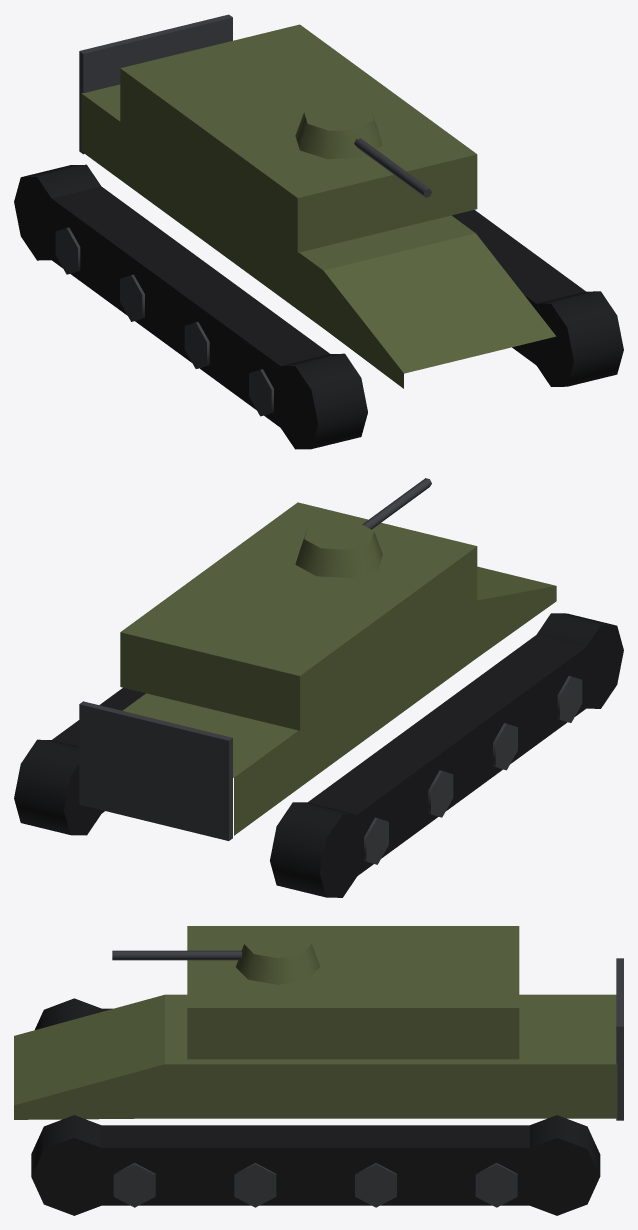
Rendered from veh_ground_apc_tracked_a08.glb.
3 renders of one model, top to bottom at view 1: azimuth 30°, elevation 25°; view 2: azimuth 150°, elevation 25°; view 3: azimuth 270°, elevation 25°, orthographic. The views are drawn at different scales.
Parts seen in each view (by area): view 1: body, track_r, track_l, ramp, gun; view 2: body, track_r, ramp, track_l, gun; view 3: body, track_l, gun, ramp, track_r.
Part boxes in pixels (box(x1,y1,x2,y2)): body: box(81, 24, 556, 388); track_r: box(14, 164, 367, 449); track_l: box(452, 210, 623, 386); ramp: box(79, 14, 232, 154); gun: box(295, 101, 431, 197); body: box(120, 502, 556, 835); track_r: box(270, 613, 623, 897); ramp: box(79, 701, 232, 840); track_l: box(14, 687, 145, 835); gun: box(295, 478, 431, 578); body: box(14, 926, 617, 1119); track_l: box(31, 1115, 600, 1215); gun: box(112, 929, 320, 984); ramp: box(616, 958, 623, 1120); track_r: box(35, 998, 112, 1029).
Size of what is drawn, in the model's own units: 3.57 by 2.37 by 6.48.
